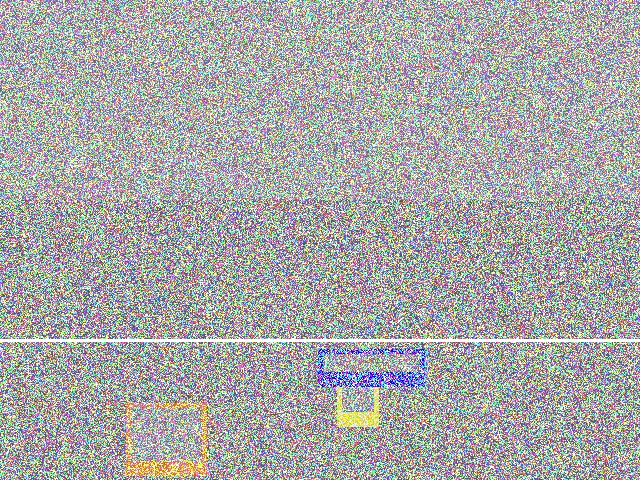bus: (384, 293, 463, 384)
motorcycle: (203, 408, 330, 456)
